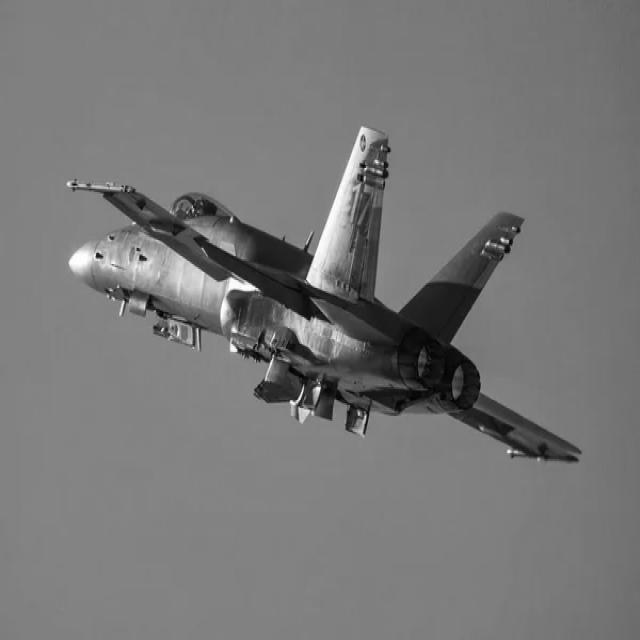Aircraft: (53, 110, 595, 489)
